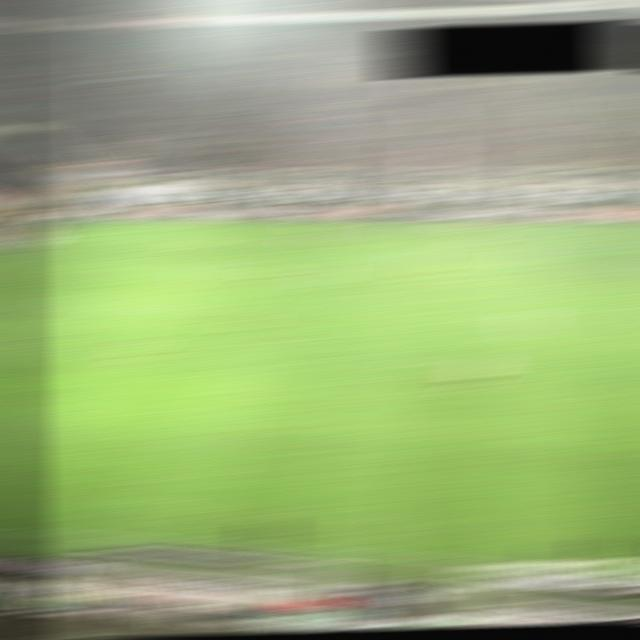bigarea_top_inner: (129, 249, 164, 259)
bigarea_top_outter: (12, 248, 48, 256)
bottom_arc_area_intersection: (28, 338, 64, 346)
corner: (61, 219, 97, 229)
halfcircle_bottom: (397, 360, 431, 369)
halfcircle_top: (404, 287, 439, 295)
midline_bottom_intersection: (375, 549, 413, 563)
midline_top_intersection: (411, 222, 447, 231)
smallarea_top_inner: (9, 278, 45, 287)
top_arc_area_intersection: (90, 283, 125, 292)
